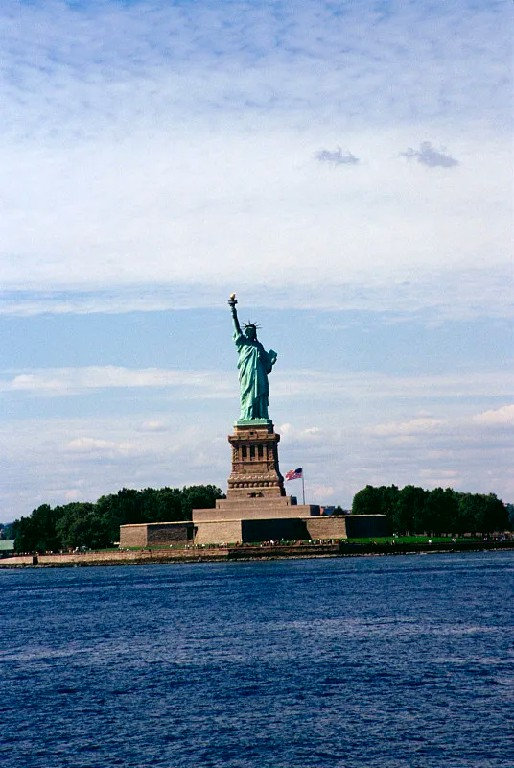SL: (227, 292, 286, 500)
